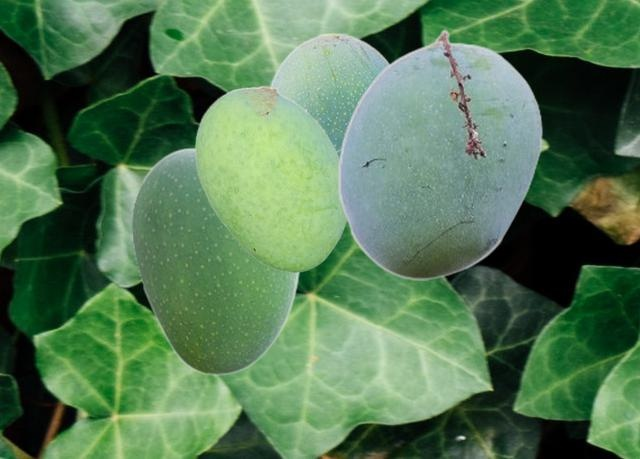green_mango: (337, 29, 542, 279), (131, 147, 300, 374), (195, 85, 346, 271), (267, 32, 389, 153)
